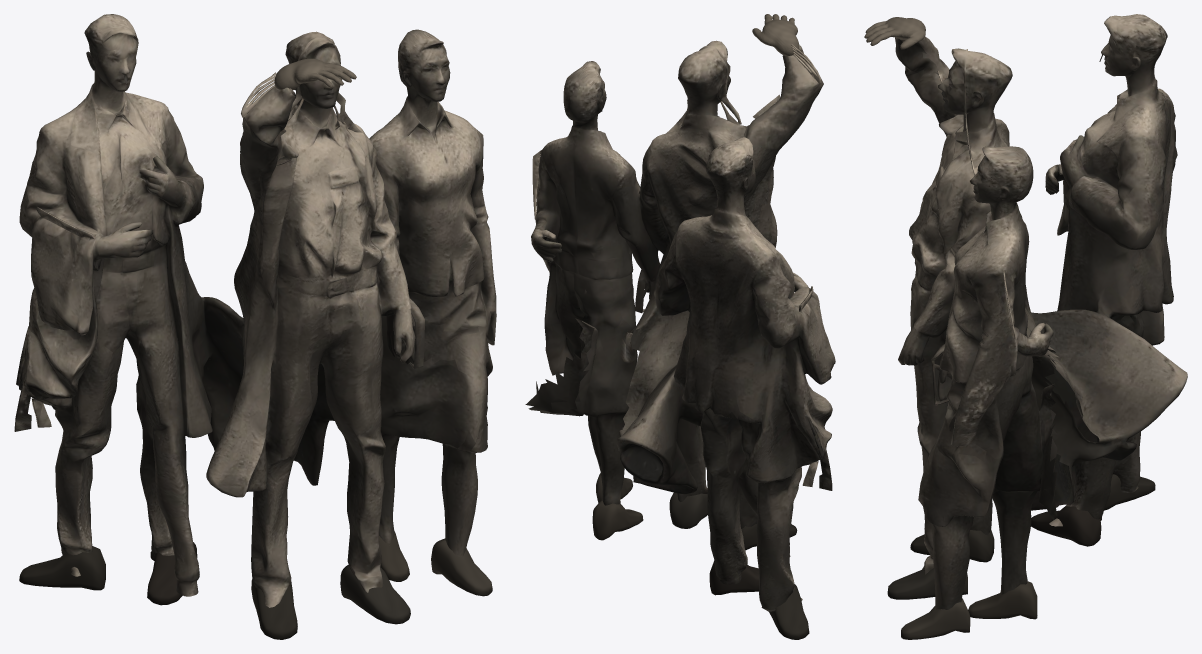
File: navigators-h31.glb
The picture shows the model from 3 angles, left to right: view 1: azimuth 30°, elevation 25°; view 2: azimuth 150°, elevation 25°; view 3: azimuth 270°, elevation 25°; orthographic projection. The views are drawn at different scales.
Visible parts, largest first — view 1: navigators-h31; view 2: navigators-h31; view 3: navigators-h31.
Boxes of the visible parts, <box> form: navigators-h31: <box>14,14,496,639</box>; navigators-h31: <box>525,14,835,639</box>; navigators-h31: <box>864,14,1187,639</box>.
Size of the model in its own units: 1.88 by 2.54 by 1.39.
2 materials, 1 textured.
